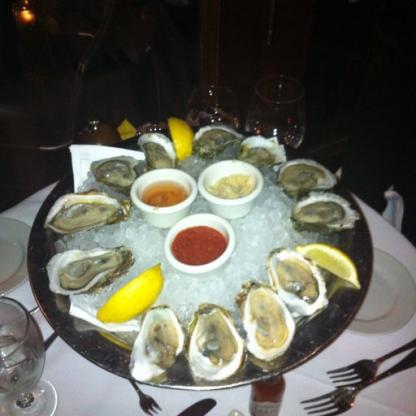oyster: (122, 304, 186, 378), (186, 304, 239, 386), (241, 283, 294, 363), (45, 190, 132, 237), (268, 248, 328, 314), (52, 250, 136, 292), (292, 184, 351, 233), (281, 155, 336, 195), (90, 153, 141, 194), (138, 133, 179, 178), (194, 121, 236, 155)
